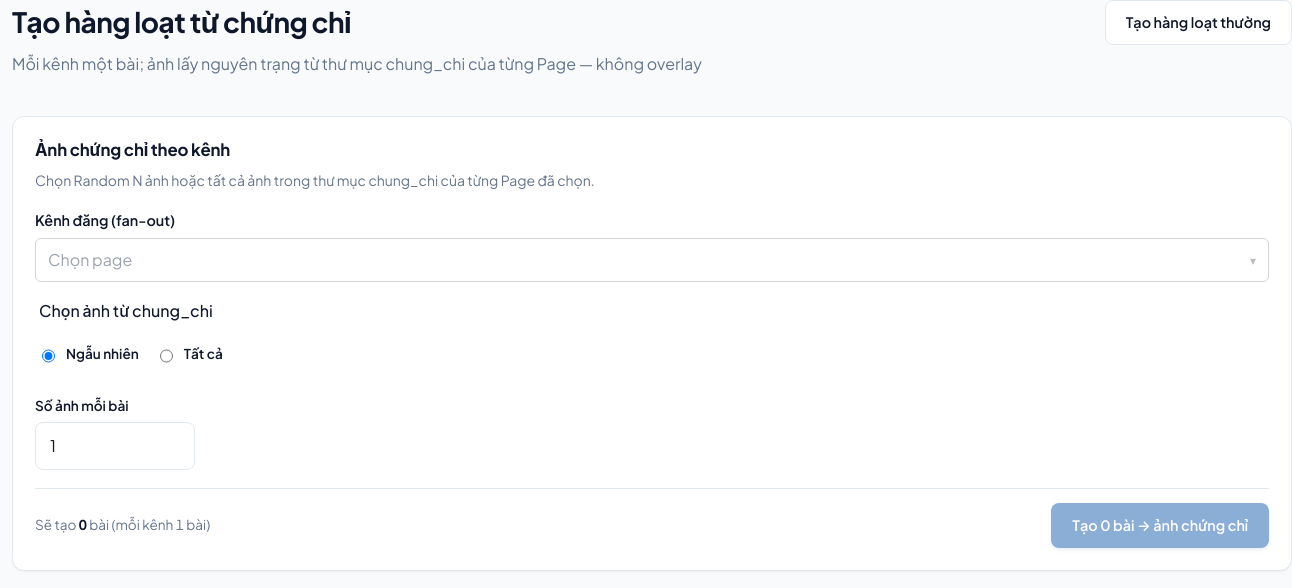
Test case: BulkChungChiPage › shows a count input for Random and hides it for All
Check: the number field labelled "Số ảnh mỗi bài" is shown, box 35,422 -> 195,470
Click the radio button labelled "Tất cả" at (166,356), box 160,334 -> 173,376
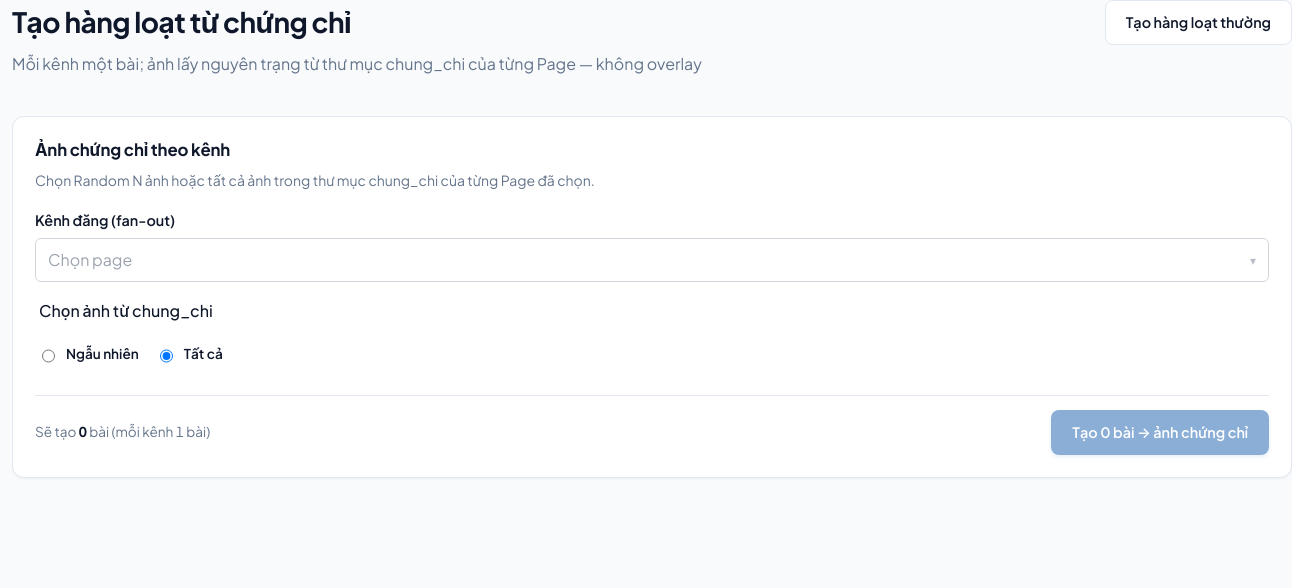
Check: the label labelled "Số ảnh mỗi bài" is gone
Click the radio button labelled "Ngẫu nhiên" at (48,356), box 42,334 -> 55,376
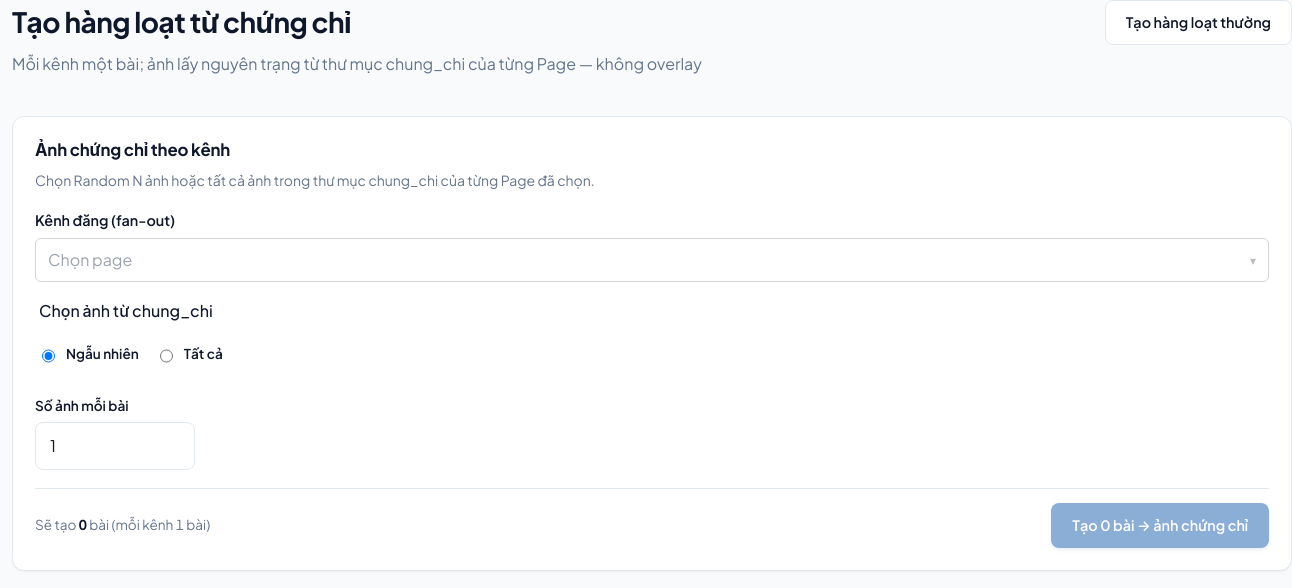
Check: the number field labelled "Số ảnh mỗi bài" is shown, box 35,422 -> 195,470
